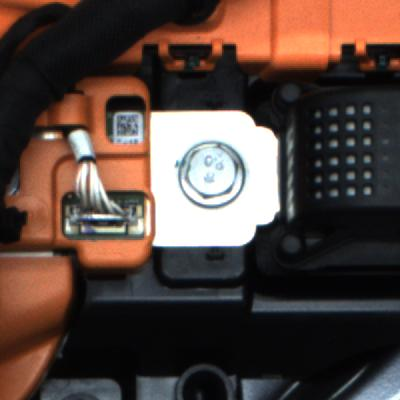nut_b: (175, 139, 260, 216)
